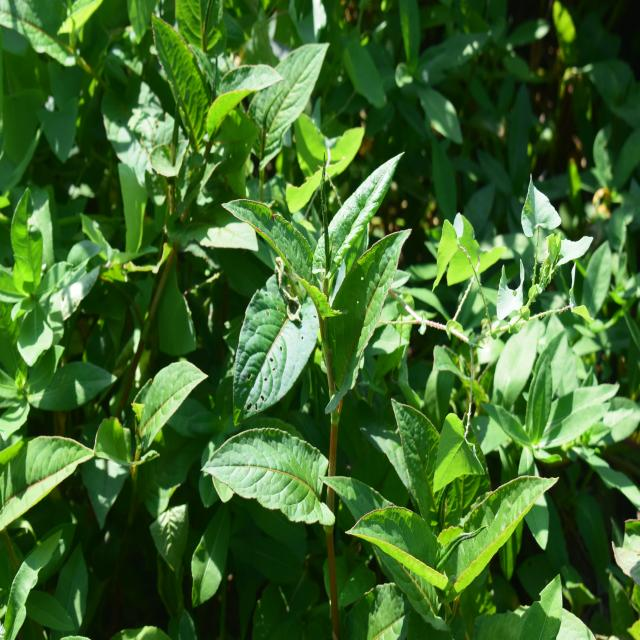Chinese_knotweed: (214, 154, 418, 541), (359, 414, 539, 608)
